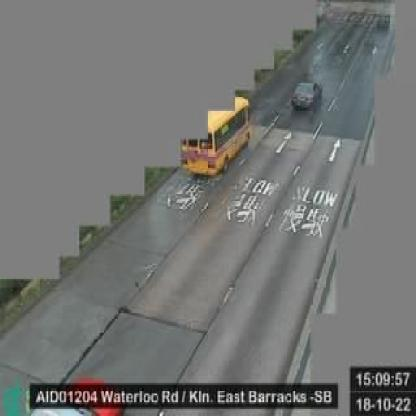Bus: (180, 99, 254, 177)
Car: (292, 78, 324, 112)
